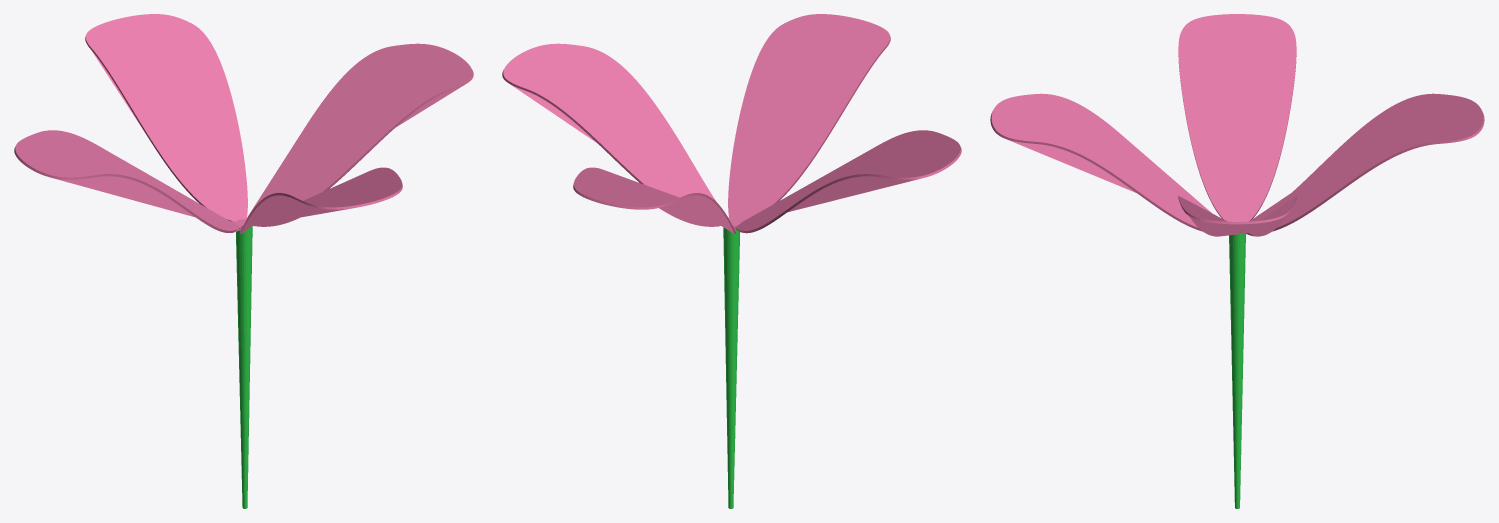
Rendered from pinkFlower.fbx.
The picture shows the model from 3 angles, left to right: view 1: azimuth 30°, elevation 25°; view 2: azimuth 150°, elevation 25°; view 3: azimuth 270°, elevation 25°; orthographic projection. The views are drawn at different scales.
Parts seen in each view (by area): view 1: Circle; view 2: Circle; view 3: Circle.
Boxes of the visible parts, x1,y1,x2,y2 form: Circle: (14, 14, 473, 508); Circle: (502, 14, 961, 508); Circle: (990, 14, 1484, 508).
Size of the model in its own units: 204 by 177 by 204.
